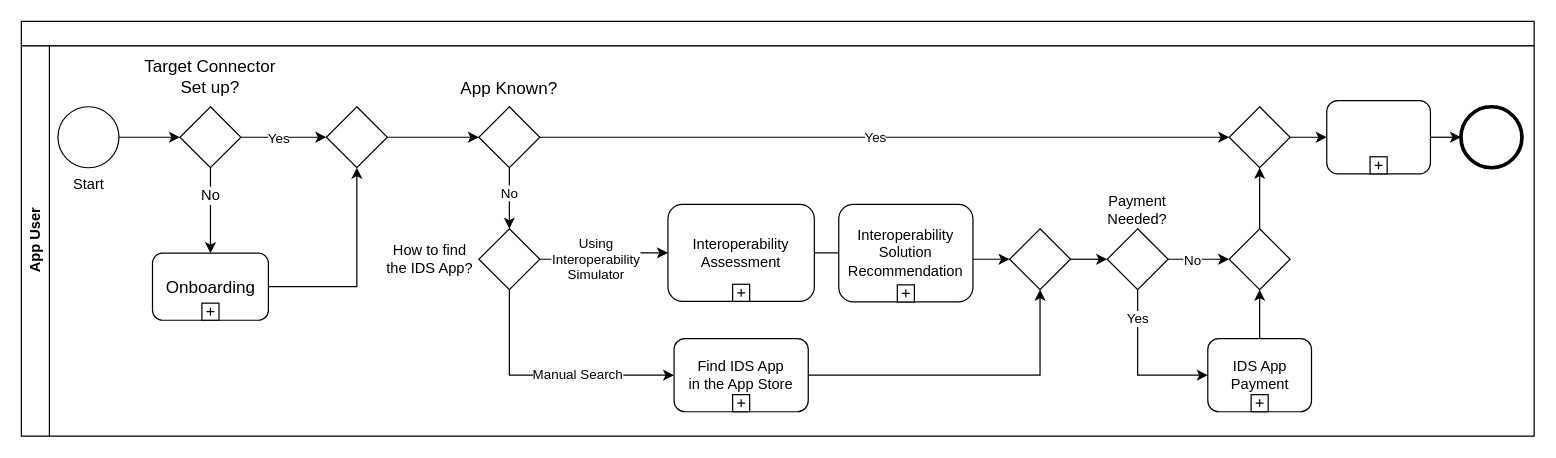
Some shapes in this 1556 by 458 pixel diagram are drawn without their labels. The centre of each missing label's shape, as x and y in pixels:
IDS App Retrieved: [1491,137]
Retrieve IDS App: [1378,136]
Use IDS App: [777,33]
